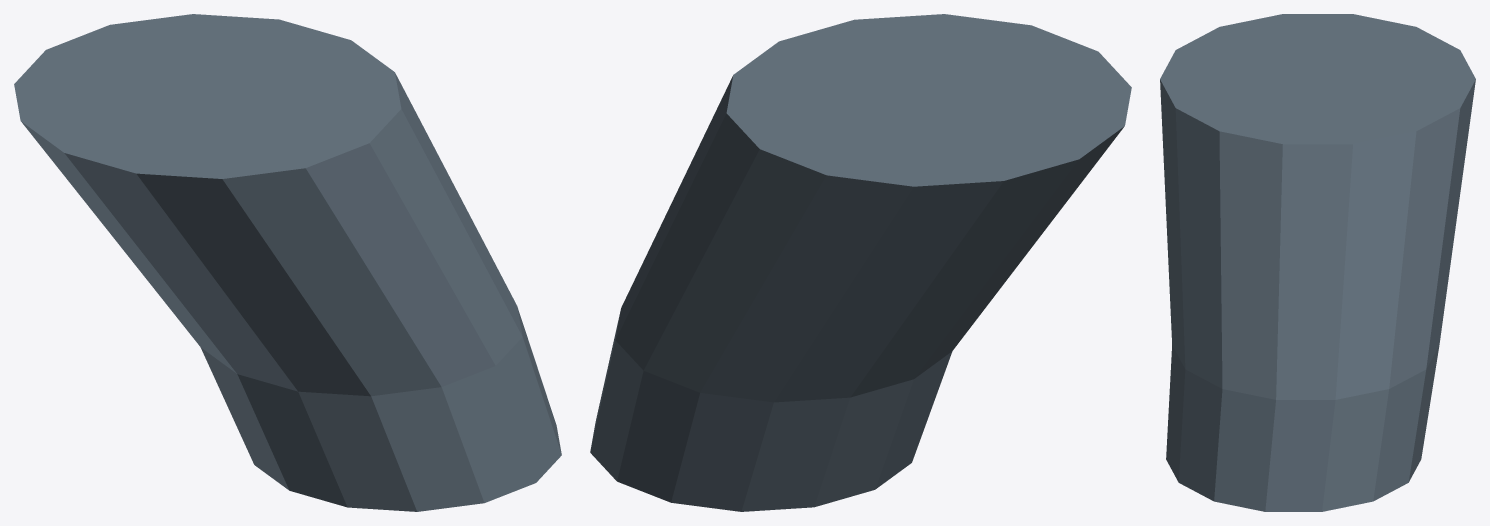
Rendered from SleeveLower_R.obj.
The picture shows the model from 3 angles, left to right: view 1: azimuth 30°, elevation 25°; view 2: azimuth 150°, elevation 25°; view 3: azimuth 270°, elevation 25°; orthographic projection. The views are drawn at different scales.
Visible parts, largest first — view 1: SleeveLower_R; view 2: SleeveLower_R; view 3: SleeveLower_R.
Part boxes in pixels (x1,y1,x2,y2): SleeveLower_R: (14,14,561,511); SleeveLower_R: (590,14,1131,511); SleeveLower_R: (1160,14,1475,511).
Bounding box in the file's own units: 0.3691 × 0.28 × 0.26.
